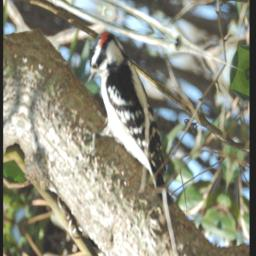Woodpecker: (72, 26, 189, 193)
